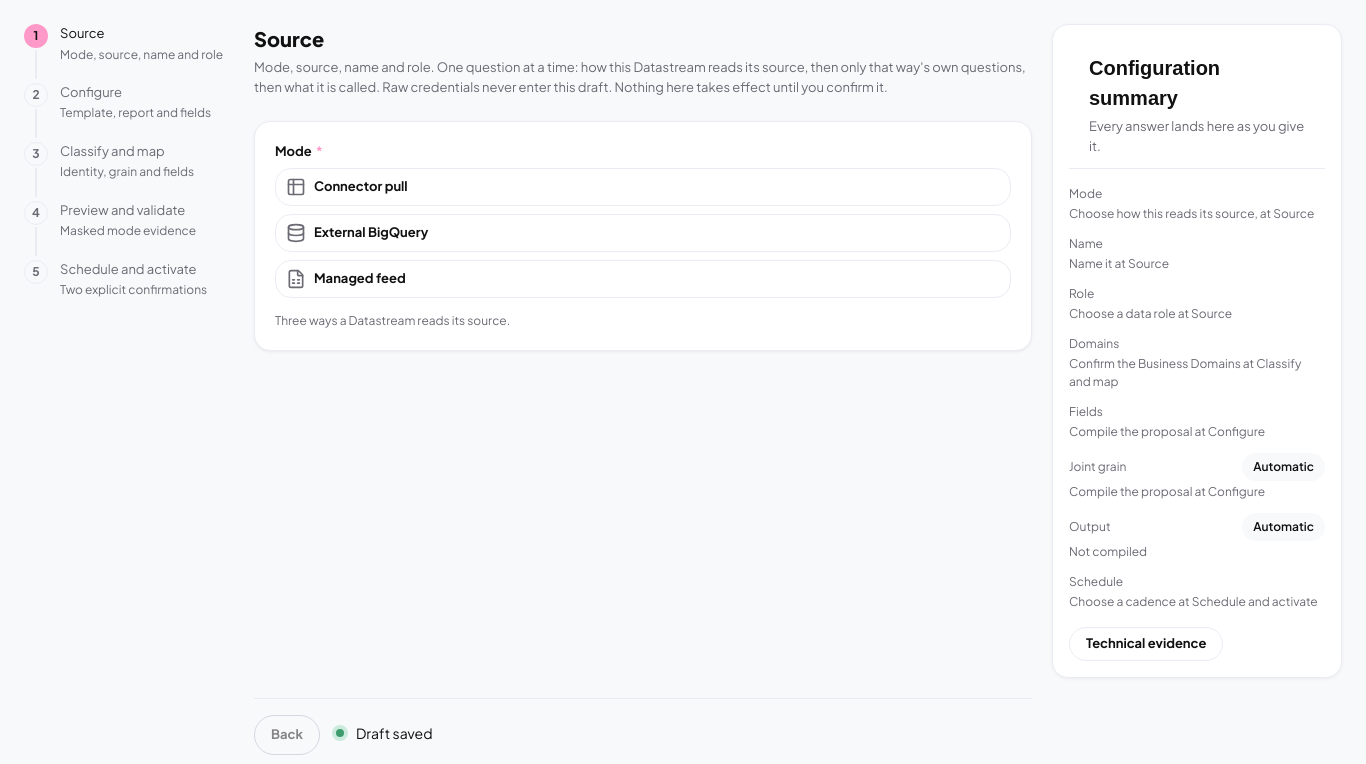
Test case: renders the live tree as a drill-down, and a picked table writes the reference
This screenshot has width=1366, height=764.
Step 1. Click the radio button labelled "External BigQuery" → (371, 232), box [275, 214, 1011, 252]
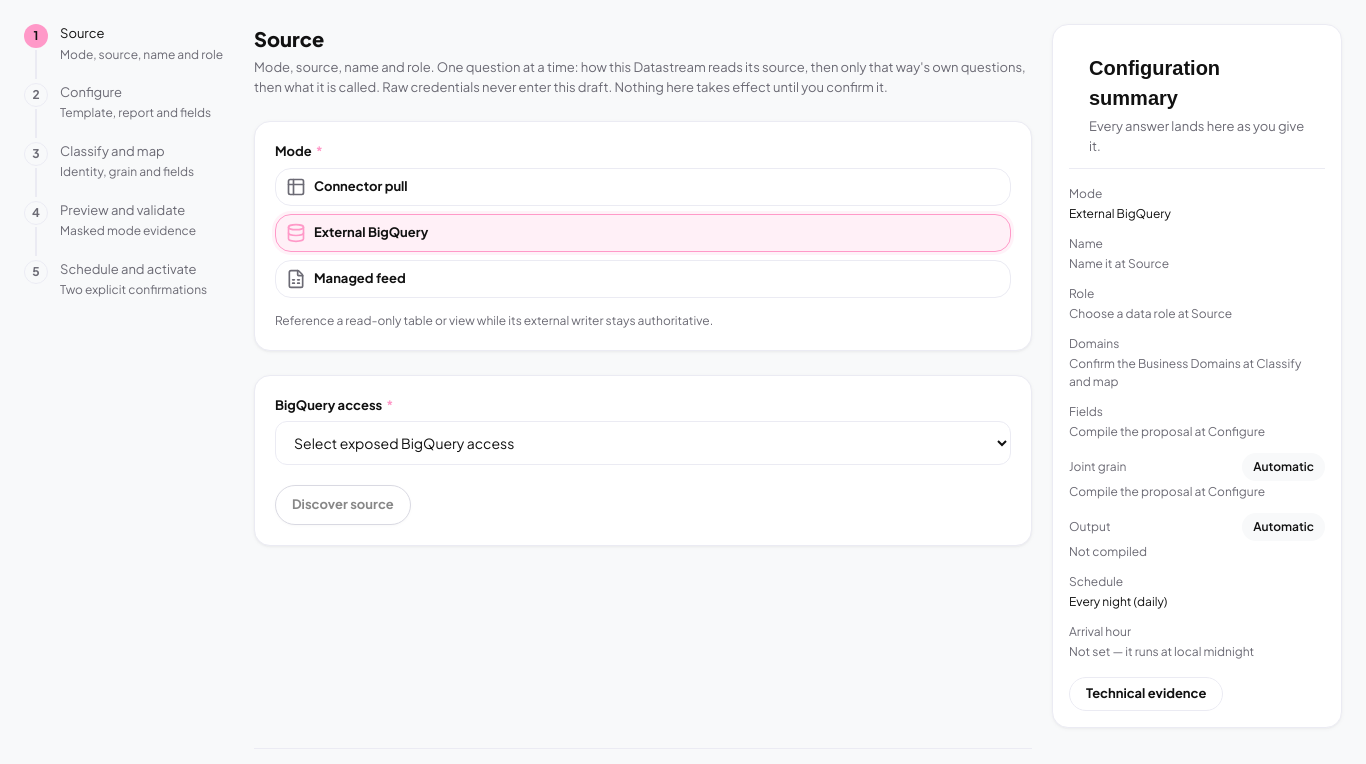
Step 2. Select "Acme warehouse" in the dropdown labelled "BigQuery access*" → (643, 443), box [275, 421, 1011, 465]
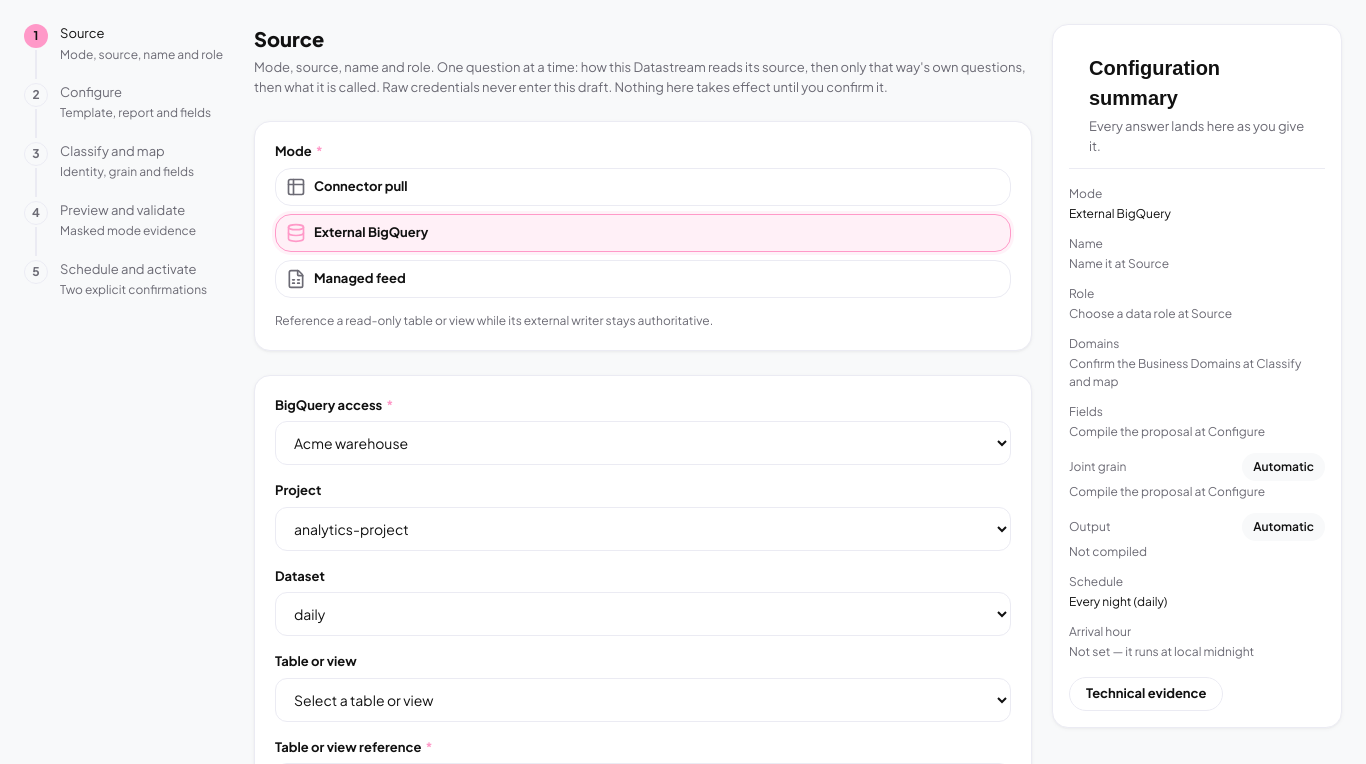
Expected: the dropdown labelled "Project" is shown, [275, 506, 1011, 550]
Step 3. Select "daily" in the dropdown labelled "Dataset" → (643, 614), box [275, 592, 1011, 636]
Step 4. Select "daily_spend" in the dropdown labelled "Table or view" → (643, 700), box [275, 678, 1011, 722]
(page scrolled)
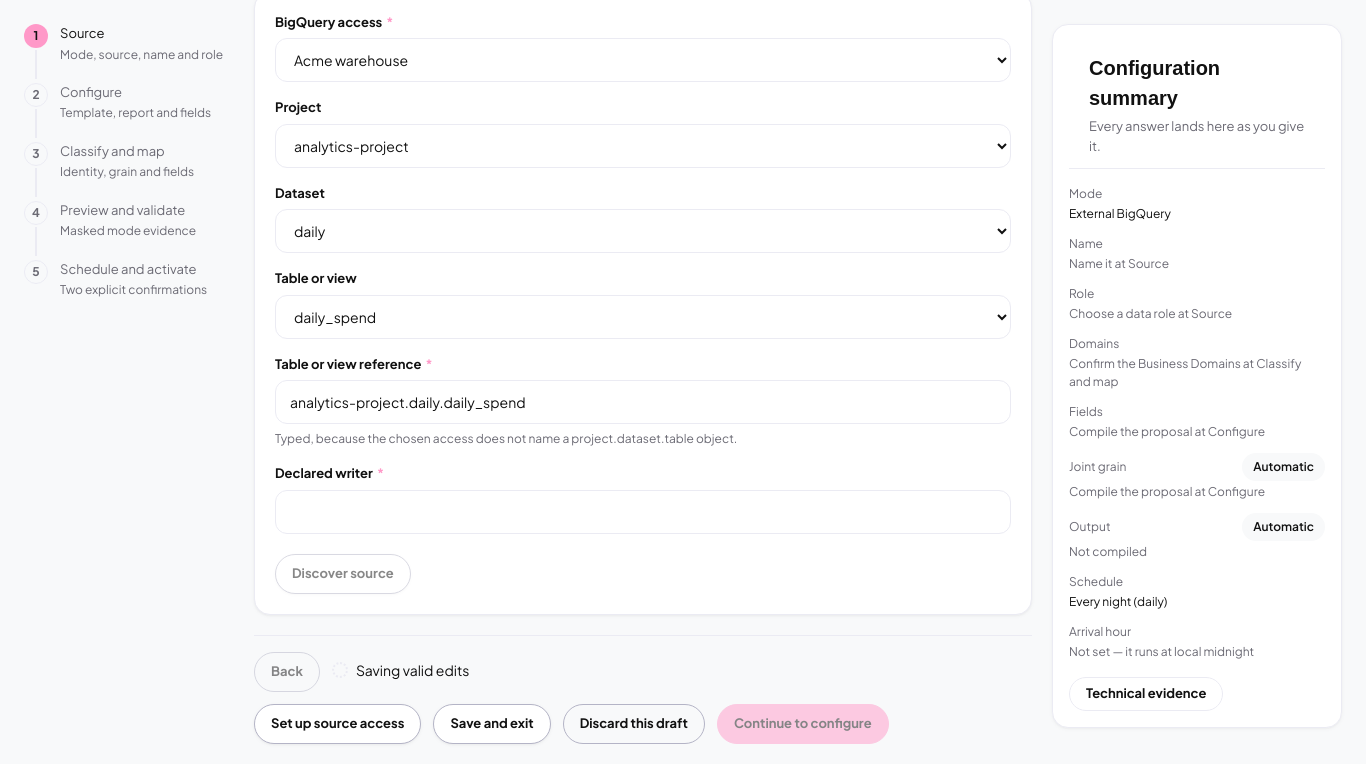
Expected: the field labelled "Table or view reference*" holds "analytics-project.daily.daily_spend", [275, 380, 1011, 424]
